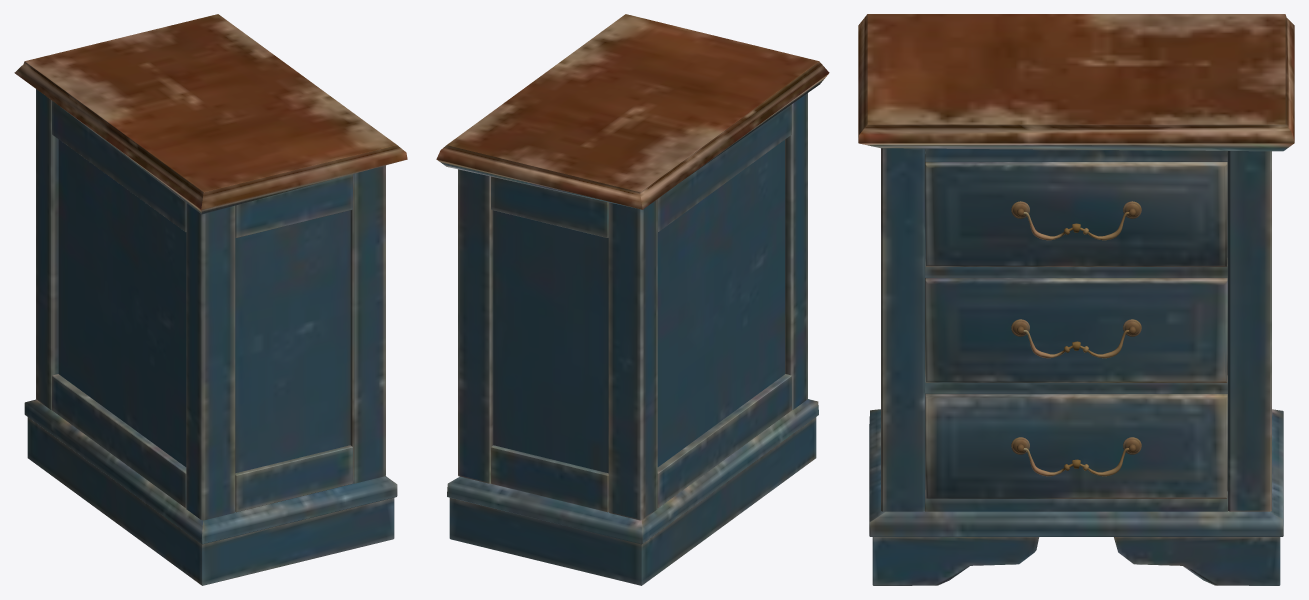
The model's file is dresser-antique.gltf.
3 renders of one model, left to right at view 1: azimuth 30°, elevation 25°; view 2: azimuth 150°, elevation 25°; view 3: azimuth 270°, elevation 25°, orthographic. The views are drawn at different scales.
Visible parts, largest first — view 1: Base_low, Top_low, WoodPie_low, Bottom02_low, Bottom01_low; view 2: Base_low, Top_low, WoodPie_low, Bottom02_low, Bottom01_low; view 3: Draw_low, Top_low, Base_low, WoodPie_low, Bottom01_low, Bottom02_low, Handle_low, HandlePie_low.
Boxes of the visible parts, left/top/right/bottom form: Base_low: left=36, top=89, right=385, bottom=520; Top_low: left=14, top=14, right=407, bottom=214; WoodPie_low: left=52, top=101, right=352, bottom=512; Bottom02_low: left=27, top=417, right=394, bottom=585; Bottom01_low: left=24, top=399, right=397, bottom=544; Base_low: left=458, top=93, right=807, bottom=520; Top_low: left=436, top=14, right=829, bottom=209; WoodPie_low: left=491, top=104, right=791, bottom=512; Bottom02_low: left=449, top=417, right=816, bottom=585; Bottom01_low: left=447, top=399, right=818, bottom=544; Draw_low: left=925, top=155, right=1227, bottom=498; Top_low: left=858, top=14, right=1294, bottom=151; Base_low: left=881, top=148, right=1271, bottom=511; WoodPie_low: left=925, top=148, right=1227, bottom=511; Bottom01_low: left=869, top=409, right=1283, bottom=536; Bottom02_low: left=872, top=537, right=1280, bottom=585; Handle_low: left=1023, top=212, right=1129, bottom=476; HandlePie_low: left=1011, top=201, right=1141, bottom=454.
Size of the model in its own units: 0.6624 by 1.2 by 1.03.
Materials: 1 (1 with a texture image).
